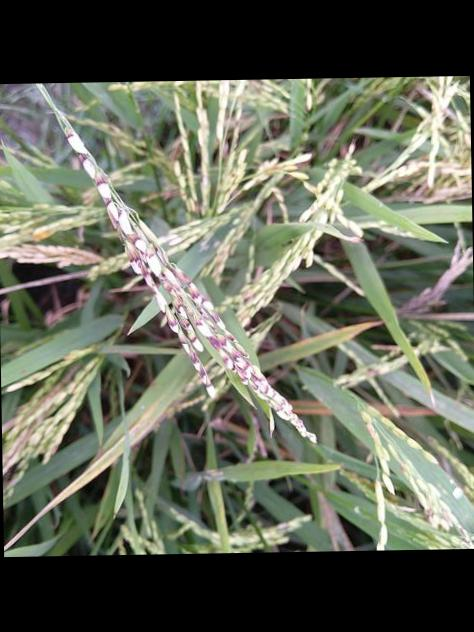Panicle Blight: (169, 263, 189, 285), (222, 348, 247, 364), (234, 360, 252, 380), (207, 332, 226, 348), (165, 305, 179, 326), (263, 163, 292, 173), (224, 166, 239, 185), (160, 274, 173, 293), (189, 284, 204, 300), (276, 395, 290, 411), (250, 371, 266, 384), (189, 347, 200, 365), (179, 331, 189, 346), (128, 251, 141, 262), (197, 307, 210, 318), (199, 361, 206, 380), (141, 261, 149, 277), (189, 331, 198, 345), (176, 295, 184, 309), (96, 176, 107, 186), (127, 232, 139, 241), (198, 296, 210, 305), (193, 317, 203, 327), (211, 311, 221, 321), (262, 384, 270, 396), (180, 318, 189, 328), (227, 331, 236, 341), (78, 154, 85, 162), (105, 199, 111, 205), (66, 133, 72, 138), (148, 252, 154, 257)
